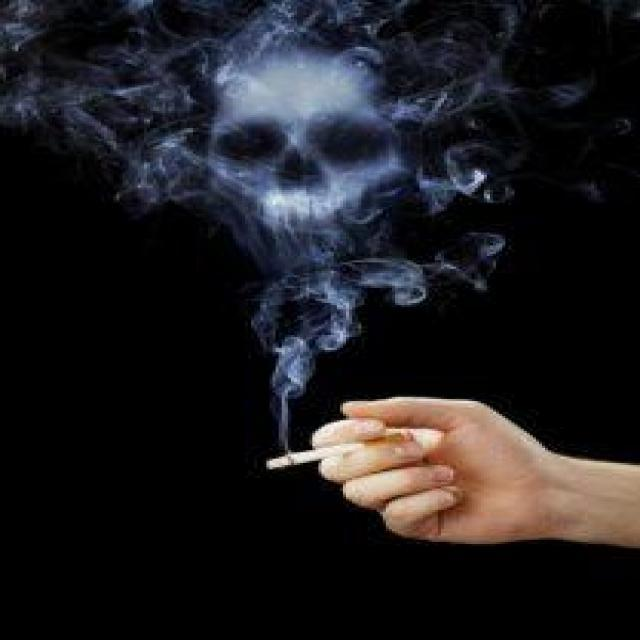cigarette: (255, 445, 400, 474)
